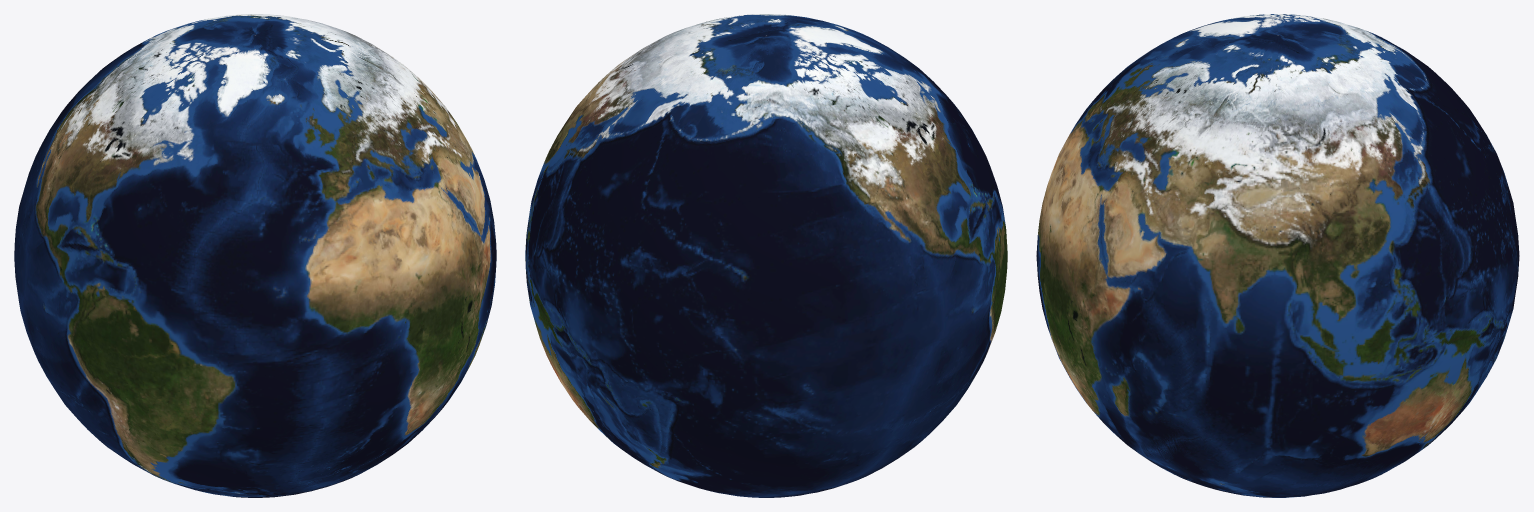
File: EarthVisual.gltf
3 renders of one model, left to right at view 1: azimuth 30°, elevation 25°; view 2: azimuth 150°, elevation 25°; view 3: azimuth 270°, elevation 25°, orthographic.
Parts seen in each view (by area): view 1: Earth; view 2: Earth; view 3: Earth.
Part boxes in pixels (<box>): Earth: <box>14,14,496,497</box>; Earth: <box>525,14,1007,497</box>; Earth: <box>1036,14,1519,497</box>.
Size of the model in its own units: 4.24 by 4.27 by 4.24.
